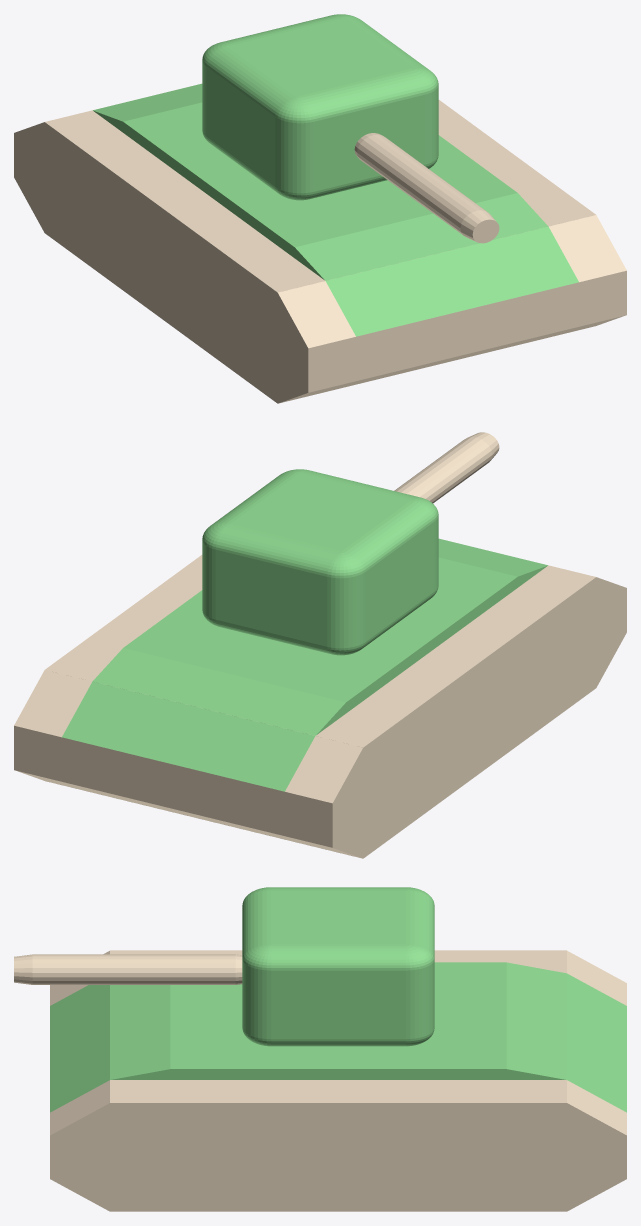
3 renders of one model, top to bottom at view 1: azimuth 30°, elevation 25°; view 2: azimuth 150°, elevation 25°; view 3: azimuth 270°, elevation 25°, orthographic. The views are drawn at different scales.
Visible parts, largest first — view 1: obj_0; view 2: obj_0; view 3: obj_0.
Part boxes in pixels (left/top/right/bottom): obj_0: left=14, top=14, right=626, bottom=403; obj_0: left=14, top=432, right=626, bottom=858; obj_0: left=14, top=887, right=626, bottom=1211.
Size of the model in its own units: 30 by 51 by 21.
